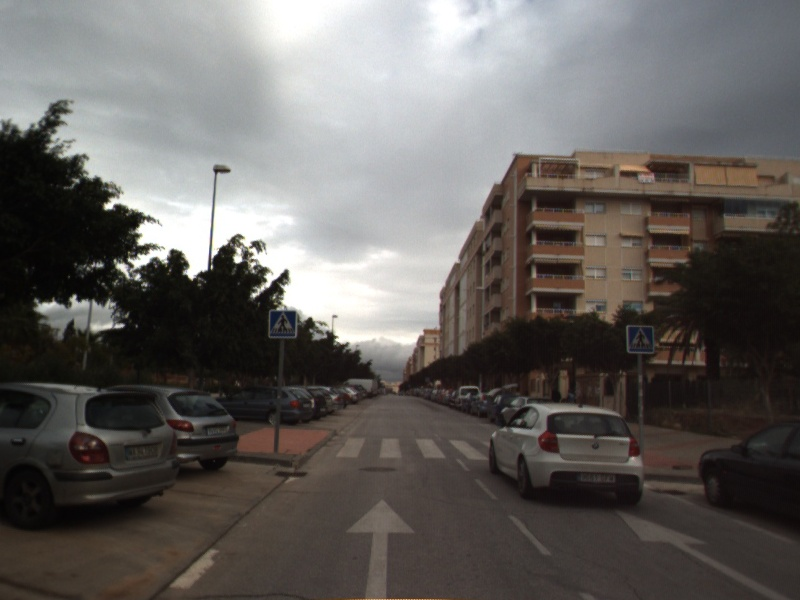STRAIGHT: (614, 508, 796, 600), (344, 497, 417, 600)
